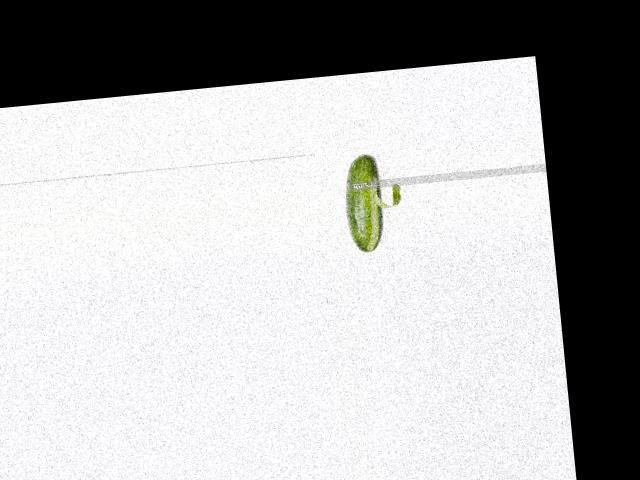cucumber: (341, 152, 388, 253)
